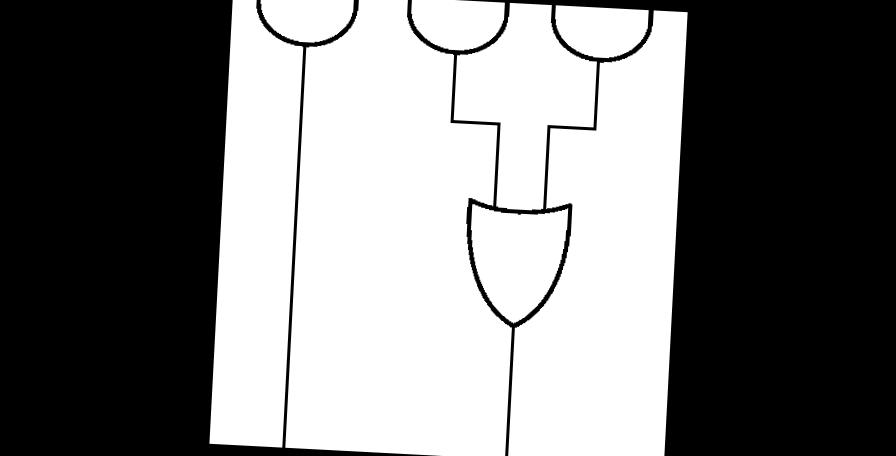and: (534, 4, 668, 88), (388, 0, 525, 81), (239, 0, 370, 79)
or: (435, 170, 586, 360)
